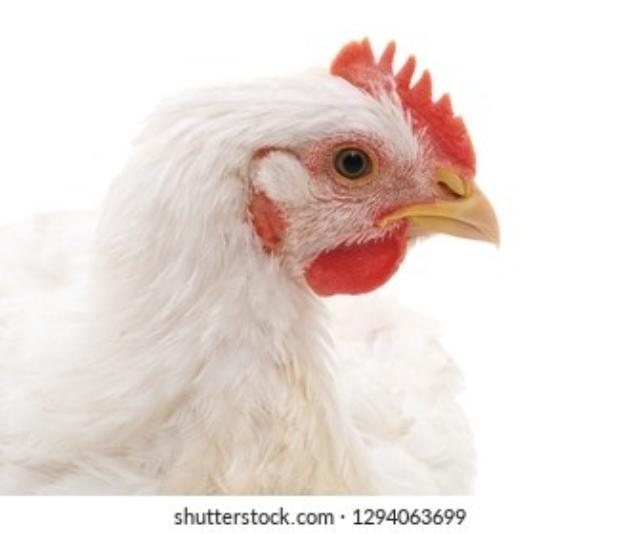Chicken: (0, 35, 499, 492)
